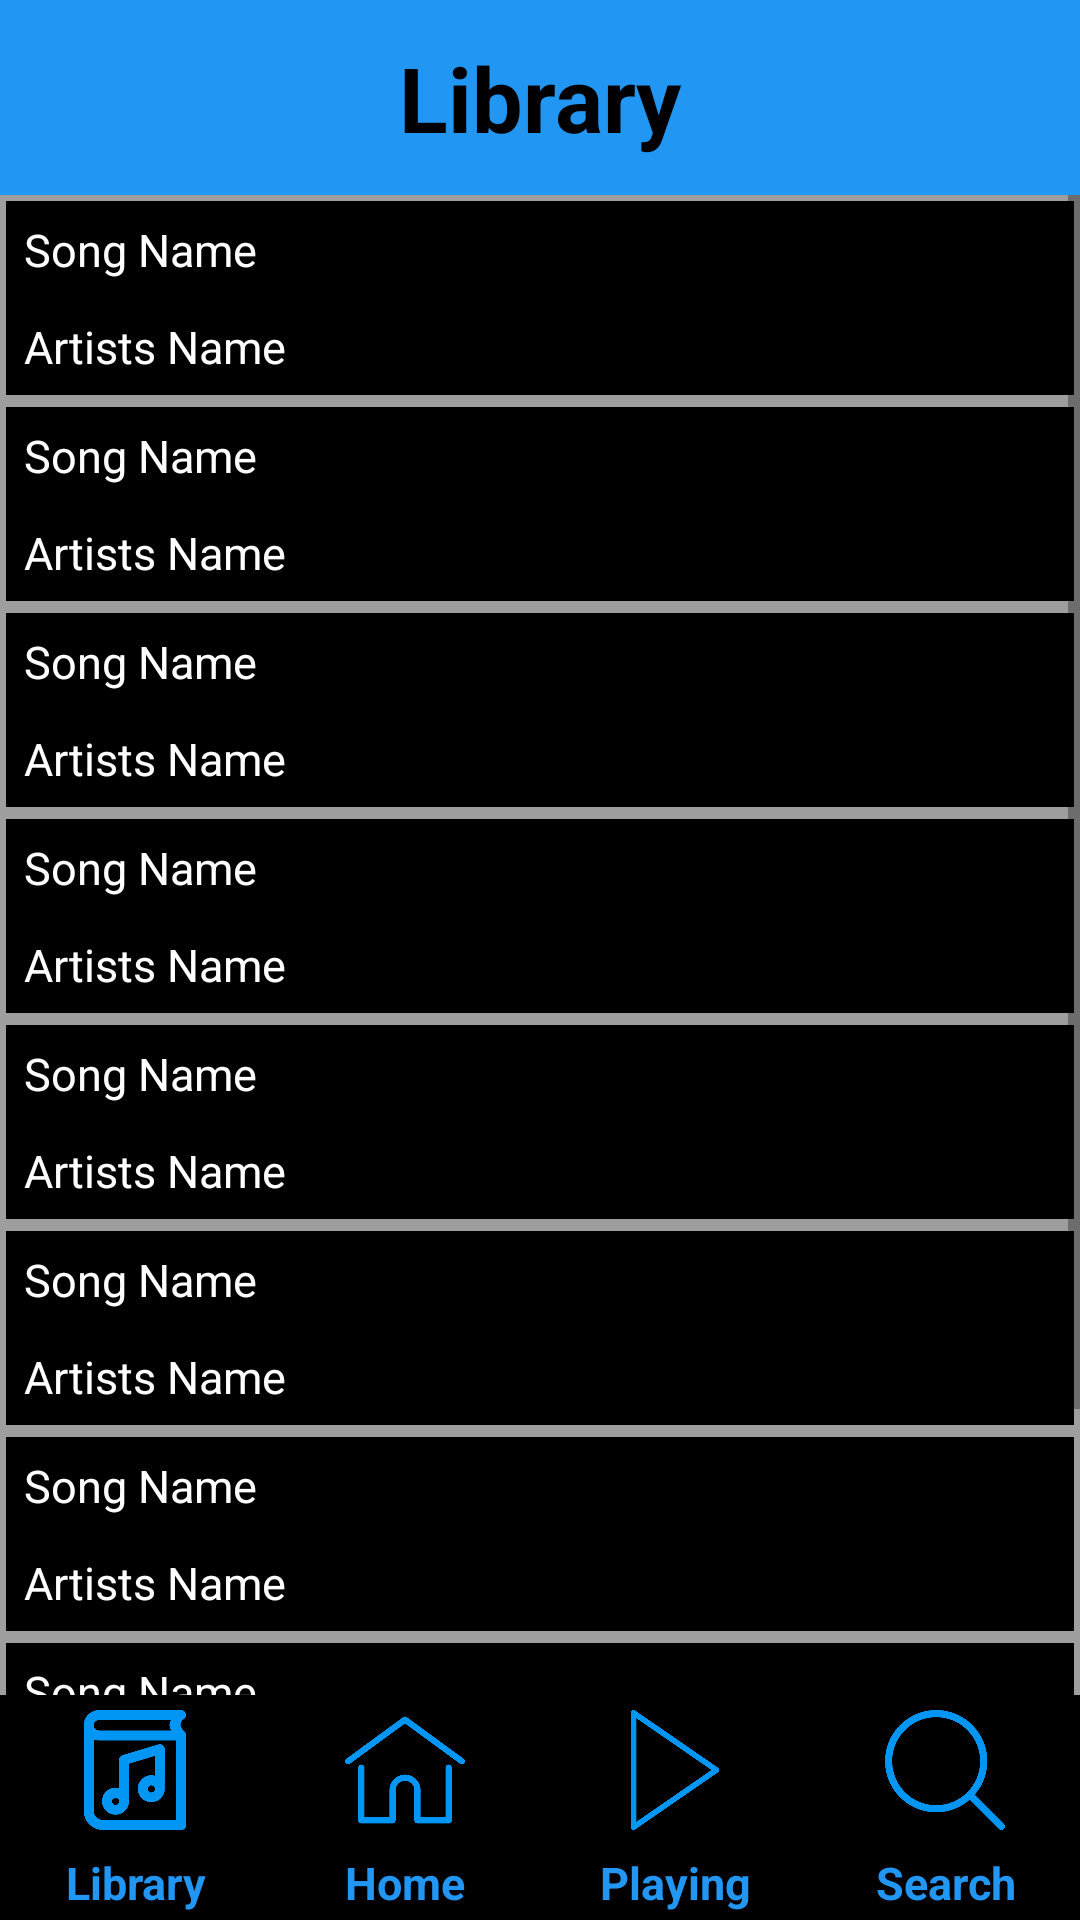

Screen size 1080x1920. Icon name, then its center in pixels as point (x, y):
book: point (135, 1770)
